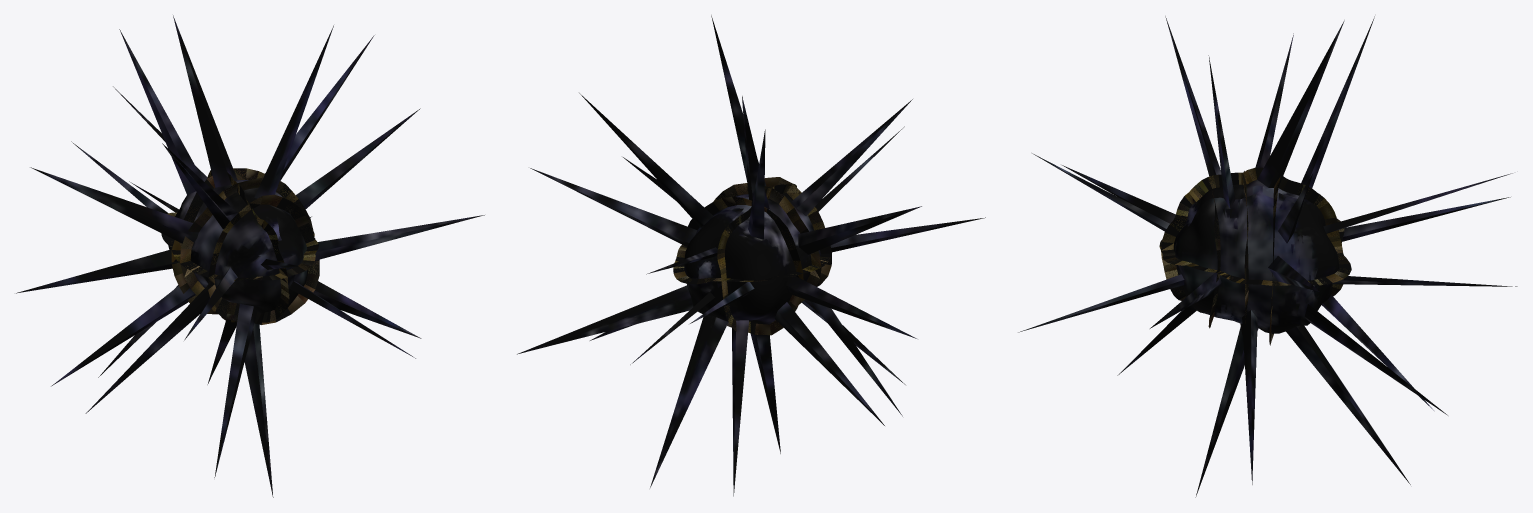
The picture shows the model from 3 angles, left to right: view 1: azimuth 30°, elevation 25°; view 2: azimuth 150°, elevation 25°; view 3: azimuth 270°, elevation 25°; orthographic projection. The views are drawn at different scales.
Visible parts, largest first — view 1: mesh_0; view 2: mesh_0; view 3: mesh_0.
Boxes of the visible parts, bbox=[...] form: mesh_0: bbox=[16, 15, 484, 497]; mesh_0: bbox=[517, 15, 985, 496]; mesh_0: bbox=[1018, 16, 1517, 497].
Bounding box in the file's own units: 9.31 × 9.86 × 9.35.
Materials: 1 (1 with a texture image).
